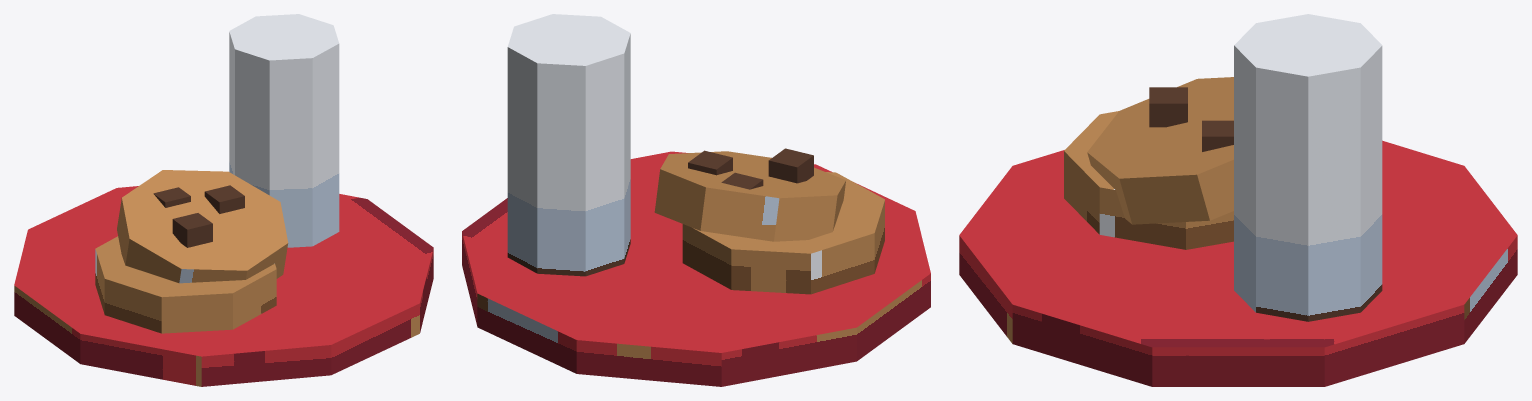
File: cookies_milk.glb
3 views of the same model, side by side, from view 1: azimuth 30°, elevation 25°; view 2: azimuth 150°, elevation 25°; view 3: azimuth 270°, elevation 25° (orthographic). The views are drawn at different scales.
Parts seen in each view (by area): view 1: cookies_milk; view 2: cookies_milk; view 3: cookies_milk.
Boxes of the visible parts, x1,y1,x2,y2 form: cookies_milk: (14, 14, 433, 386); cookies_milk: (462, 14, 930, 386); cookies_milk: (959, 14, 1517, 386).
Size of the model in its own units: 0.6087 by 0.36 by 0.64.
Materials: 1 (1 with a texture image).
